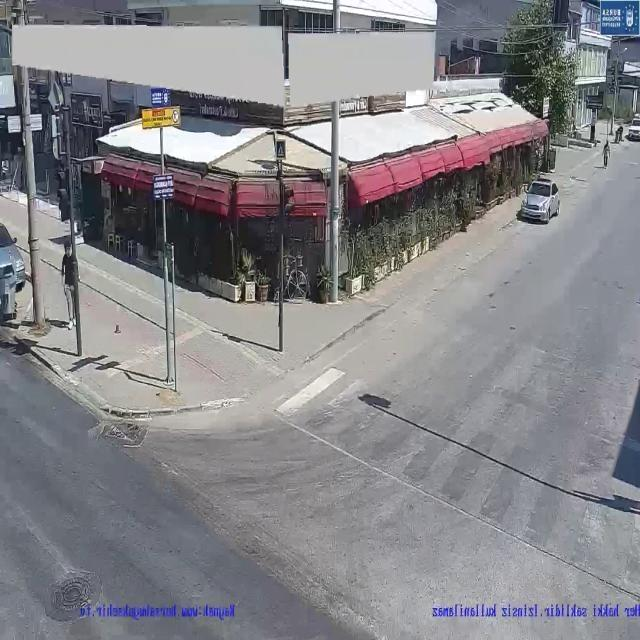Car: (507, 177, 571, 243), (0, 218, 44, 295)
